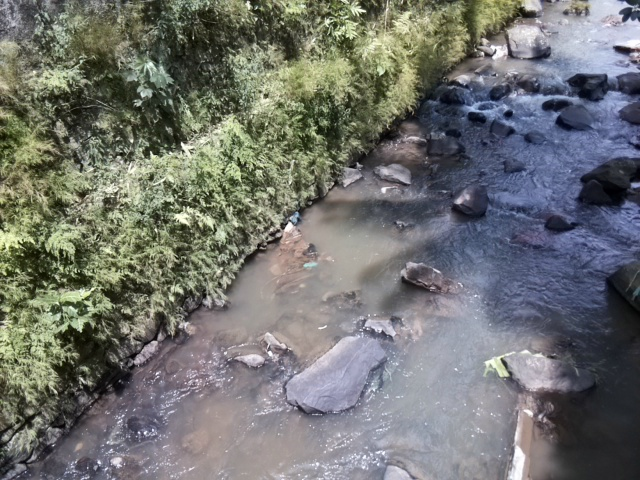Sampah_Plastik: (286, 211, 303, 225)
